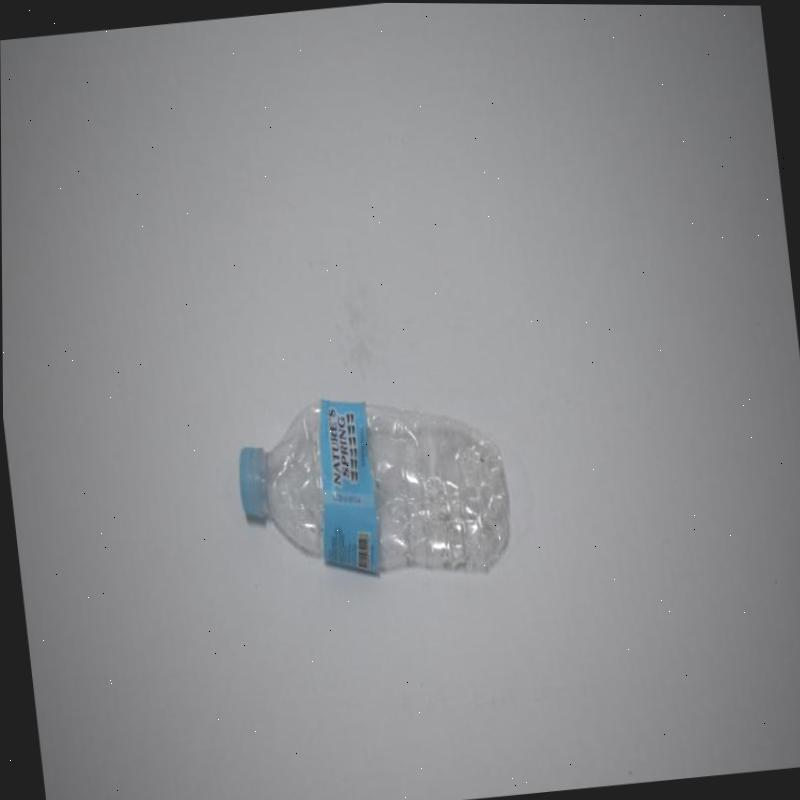botella: (229, 377, 517, 596)
